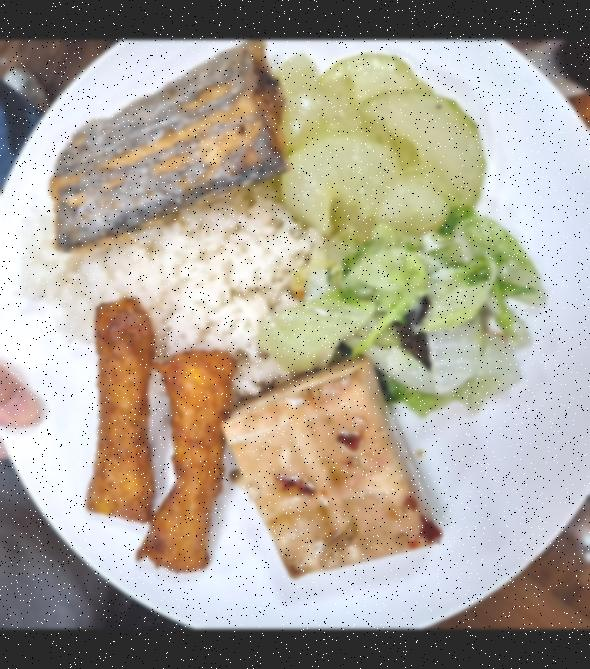pan fried fish fillet: (47, 42, 284, 256)
plate: (0, 39, 590, 629)
shrimp rolls: (78, 301, 236, 575)
side dish: (251, 210, 537, 410), (222, 360, 438, 588), (268, 51, 481, 242)
white rice: (17, 185, 304, 380)
